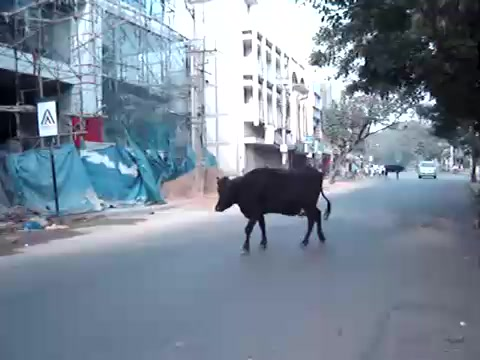cow: (211, 165, 333, 254)
